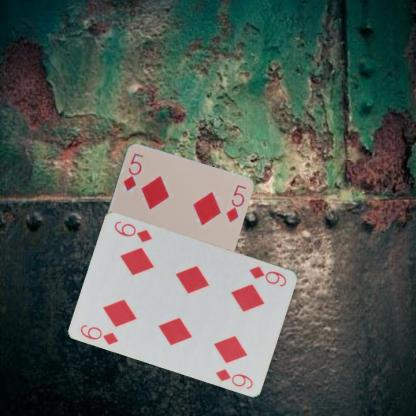5d: (120, 150, 145, 194)
6d: (78, 321, 120, 346), (247, 263, 288, 288)
